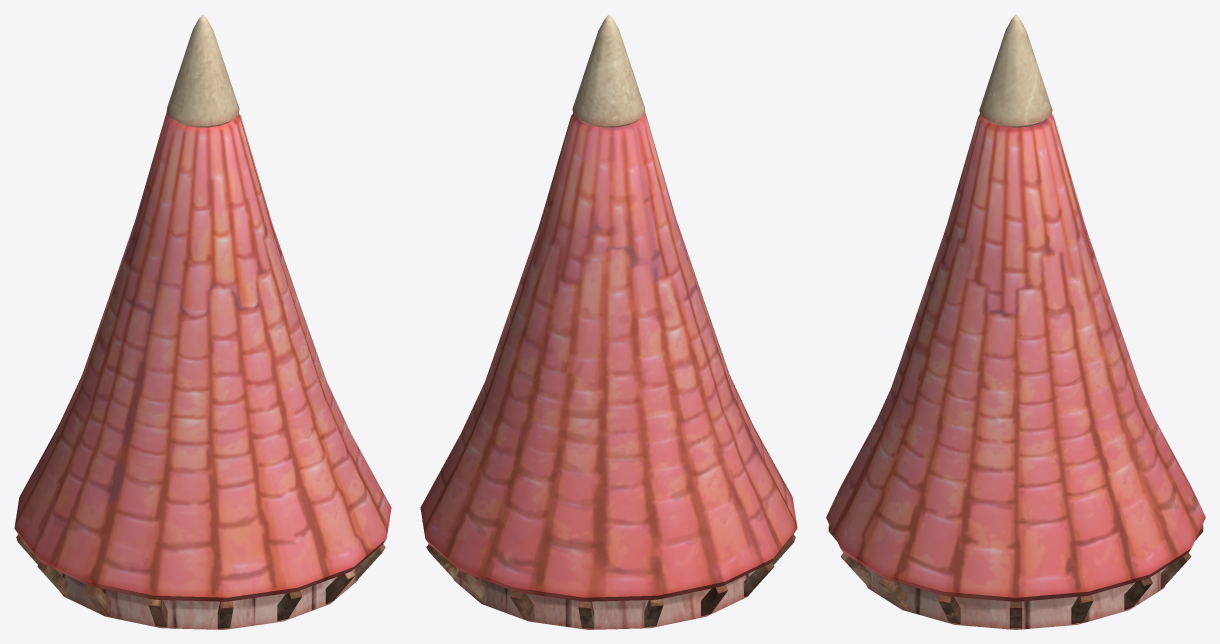
Rendered from sb_obj_outdoor024_PrincessCastle01_CircleWallTop00.fbx.
3 renders of one model, left to right at view 1: azimuth 30°, elevation 25°; view 2: azimuth 150°, elevation 25°; view 3: azimuth 270°, elevation 25°, orthographic.
Parts seen in each view (by area): view 1: sb_obj_outdoor024_PrincessCastle01_CircleWallTop00; view 2: sb_obj_outdoor024_PrincessCastle01_CircleWallTop00; view 3: sb_obj_outdoor024_PrincessCastle01_CircleWallTop00.
Part boxes in pixels (<box>): sb_obj_outdoor024_PrincessCastle01_CircleWallTop00: <box>14,14,391,629</box>; sb_obj_outdoor024_PrincessCastle01_CircleWallTop00: <box>420,14,797,629</box>; sb_obj_outdoor024_PrincessCastle01_CircleWallTop00: <box>826,14,1205,629</box>.
Bounding box in the file's own units: 3.72 × 5.92 × 3.72.
